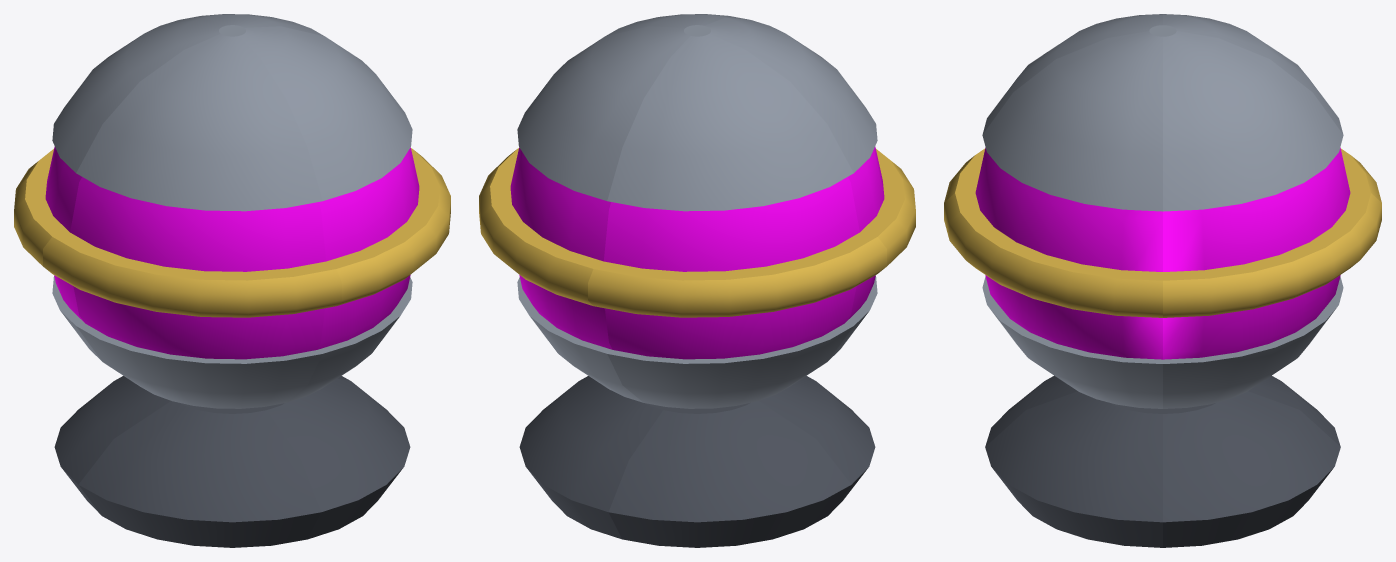
Rendered from objet_capsule_fusion.glb.
3 views of the same model, side by side, from view 1: azimuth 30°, elevation 25°; view 2: azimuth 150°, elevation 25°; view 3: azimuth 270°, elevation 25° (orthographic).
Parts seen in each view (by area): view 1: capsule_metal_sci.002, capsule_metal_sci_sombre.002, capsule_teinte.002, capsule_laiton.002; view 2: capsule_metal_sci.002, capsule_metal_sci_sombre.002, capsule_teinte.002, capsule_laiton.002; view 3: capsule_metal_sci.002, capsule_metal_sci_sombre.002, capsule_teinte.002, capsule_laiton.002.
Part boxes in pixels (left/top/right/bottom): capsule_metal_sci.002: left=52, top=14, right=412, bottom=408; capsule_metal_sci_sombre.002: left=54, top=376, right=410, bottom=547; capsule_teinte.002: left=45, top=146, right=419, bottom=359; capsule_laiton.002: left=14, top=148, right=450, bottom=317; capsule_metal_sci.002: left=517, top=14, right=877, bottom=408; capsule_metal_sci_sombre.002: left=519, top=376, right=875, bottom=547; capsule_teinte.002: left=510, top=146, right=884, bottom=359; capsule_laiton.002: left=479, top=148, right=915, bottom=317; capsule_metal_sci.002: left=982, top=14, right=1343, bottom=408; capsule_metal_sci_sombre.002: left=985, top=375, right=1340, bottom=547; capsule_teinte.002: left=975, top=147, right=1350, bottom=359; capsule_laiton.002: left=944, top=148, right=1381, bottom=317.
Bounding box in the file's own units: 0.16 × 0.1828 × 0.16.
